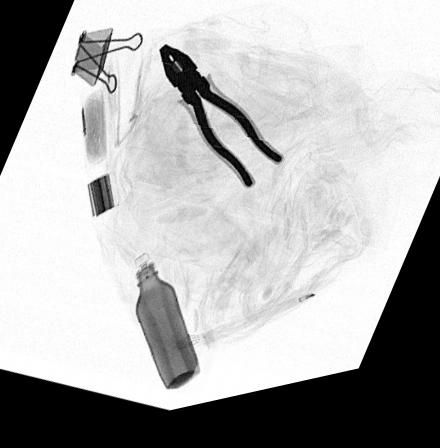Pliers: (155, 48, 287, 202)
